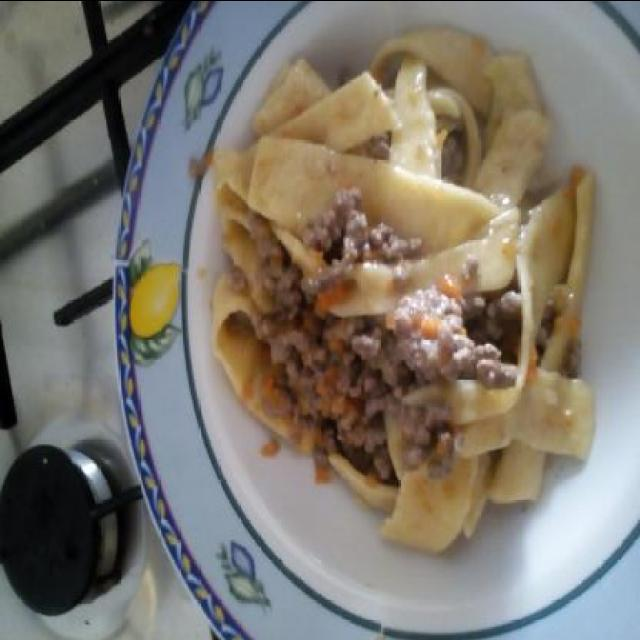Pasta al ragu: (166, 44, 583, 524)
